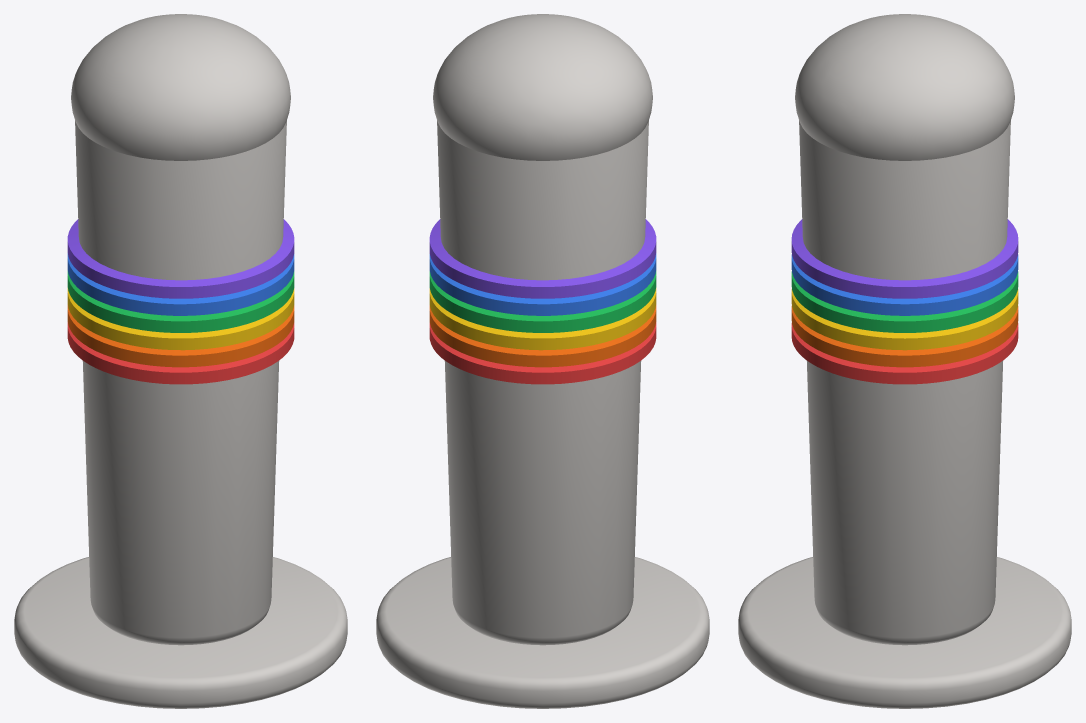
The model's file is reward-armband-rainbow.glb.
3 renders of one model, left to right at view 1: azimuth 30°, elevation 25°; view 2: azimuth 150°, elevation 25°; view 3: azimuth 270°, elevation 25°, orthographic.
Parts seen in each view (by area): view 1: upper, foot, cap, band5, band4, band1, band0, band3, band2; view 2: upper, foot, cap, band5, band4, band1, band0, band3, band2; view 3: upper, foot, cap, band5, band1, band0, band4, band3, band2.
Part boxes in pixels (x1,y1,x2,y2): upper: (75,120,286,645); foot: (14,557,347,708); cap: (71,14,290,160); band5: (67,219,294,298); band4: (67,253,294,315); band1: (67,305,294,367); band0: (67,322,294,384); band3: (67,271,294,332); band2: (67,288,294,350); upper: (437,120,648,645); foot: (376,557,709,708); cap: (433,14,652,160); band5: (429,219,656,298); band4: (429,253,656,315); band1: (429,305,656,367); band0: (429,322,656,384); band3: (429,271,656,332); band2: (429,288,656,350); upper: (799,120,1010,645); foot: (738,557,1071,708); cap: (795,14,1014,160); band5: (791,219,1018,298); band1: (791,306,1018,367); band0: (791,323,1018,384); band4: (791,254,1018,315); band3: (791,271,1018,332); band2: (791,289,1018,350).
Bounding box in the file's own units: 1.45 × 2.94 × 1.45.
